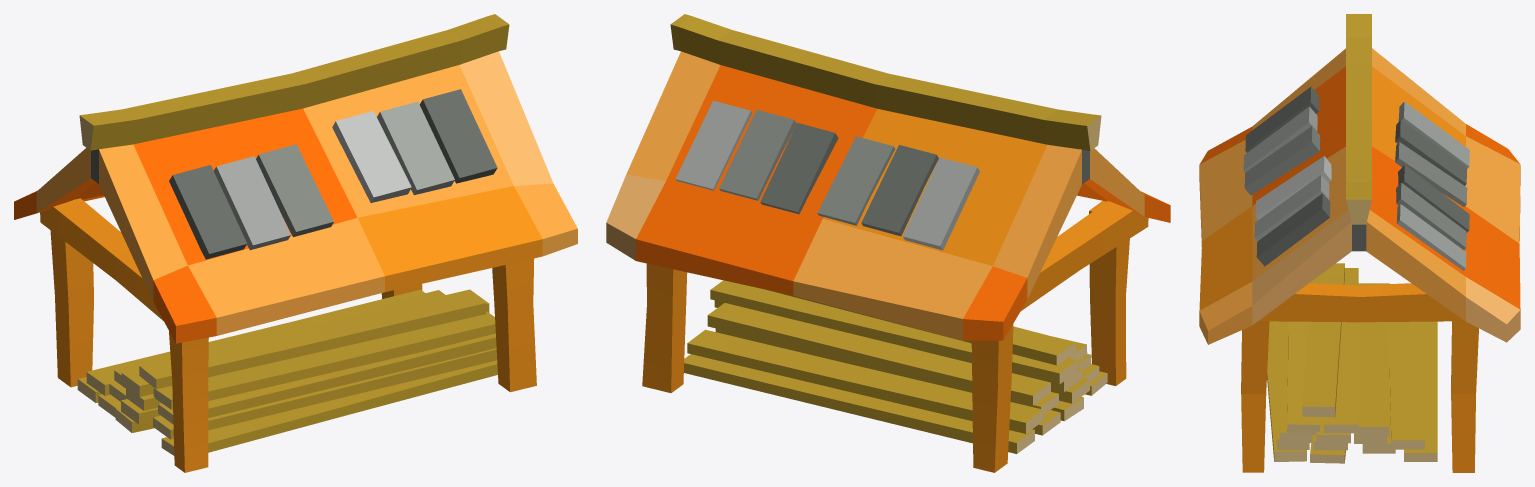
The model's file is logstore_orange.fbx.
The picture shows the model from 3 angles, left to right: view 1: azimuth 30°, elevation 25°; view 2: azimuth 150°, elevation 25°; view 3: azimuth 270°, elevation 25°; orthographic projection. The views are drawn at different scales.
Parts seen in each view (by area): view 1: log_storage3; view 2: log_storage3; view 3: log_storage3.
Part boxes in pixels (x1,y1,x2,y2): log_storage3: [14, 14, 577, 472]; log_storage3: [606, 14, 1170, 472]; log_storage3: [1199, 14, 1520, 472].
Bounding box in the file's own units: 26.48 × 19.06 × 19.38.
